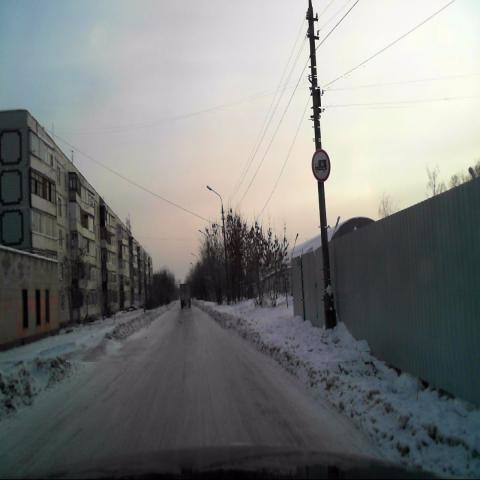3_4: (311, 148, 331, 183)
